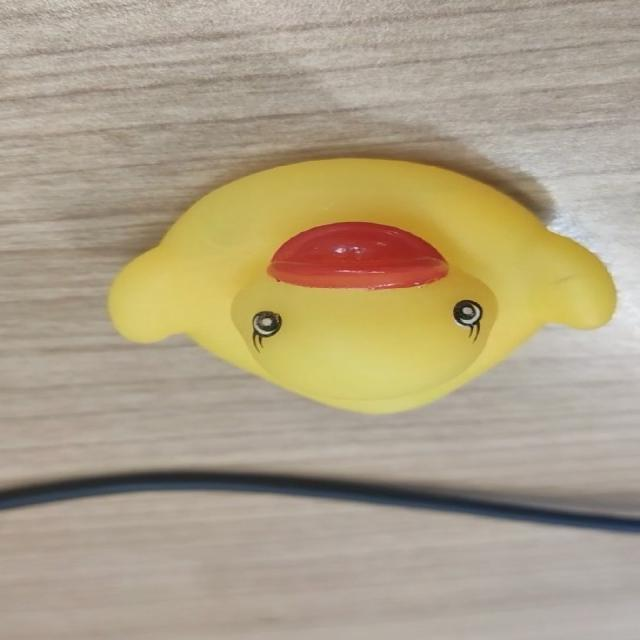rubber-duck: (107, 158, 614, 411)
